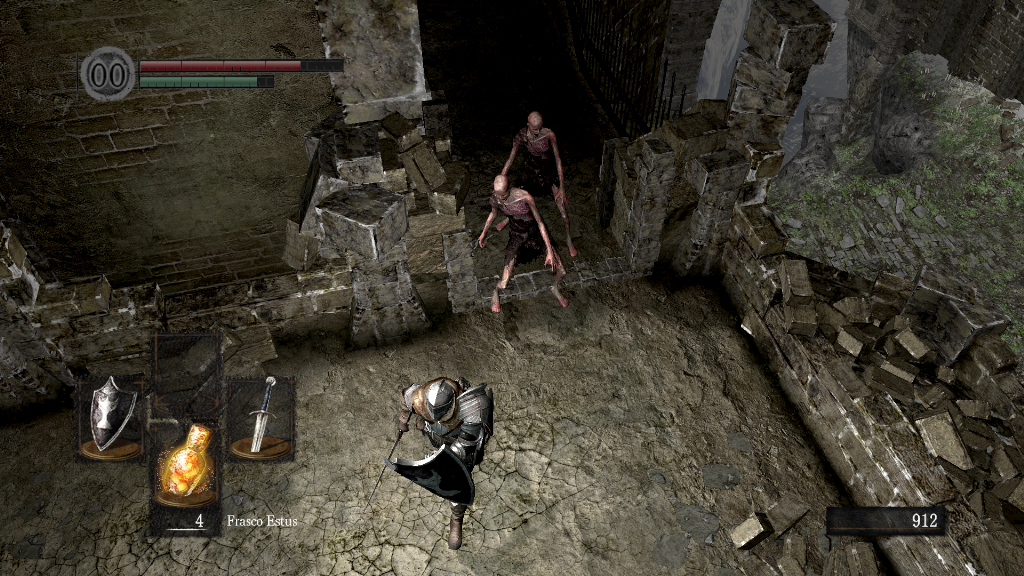health: (138, 58, 343, 71)
hollow: (475, 177, 570, 313), (492, 112, 572, 264)
humanity: (80, 45, 136, 102)
player: (358, 374, 497, 551)
souls: (825, 506, 945, 536)
stamina: (138, 74, 274, 88)
